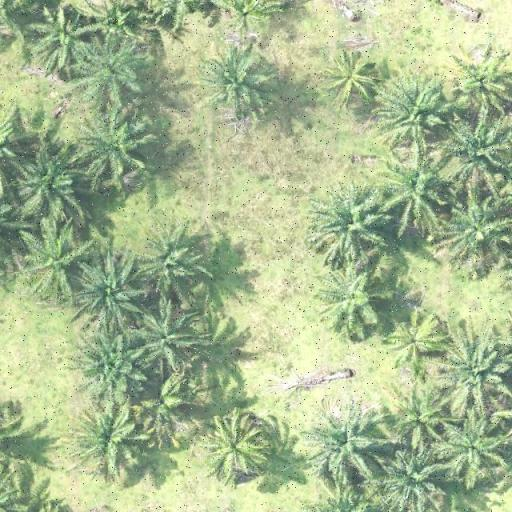Ganoderma: (206, 422, 263, 475), (454, 54, 508, 102), (321, 54, 374, 100), (390, 316, 441, 361)
